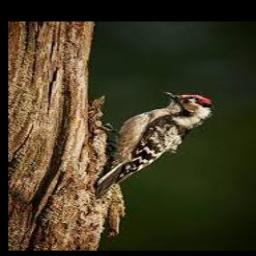Woodpecker: (96, 90, 215, 197)
